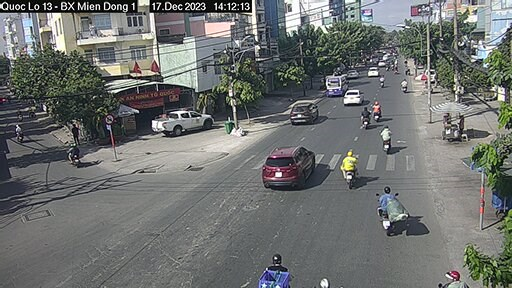car: (262, 143, 315, 188), (145, 111, 215, 138), (290, 101, 319, 125), (327, 73, 349, 97), (342, 86, 364, 107), (346, 65, 359, 80), (368, 67, 382, 77)
motorbike: (375, 191, 404, 231), (338, 152, 366, 190), (376, 125, 395, 154), (67, 143, 85, 169), (372, 101, 387, 124), (359, 107, 372, 127), (400, 79, 411, 95), (379, 78, 388, 91)
